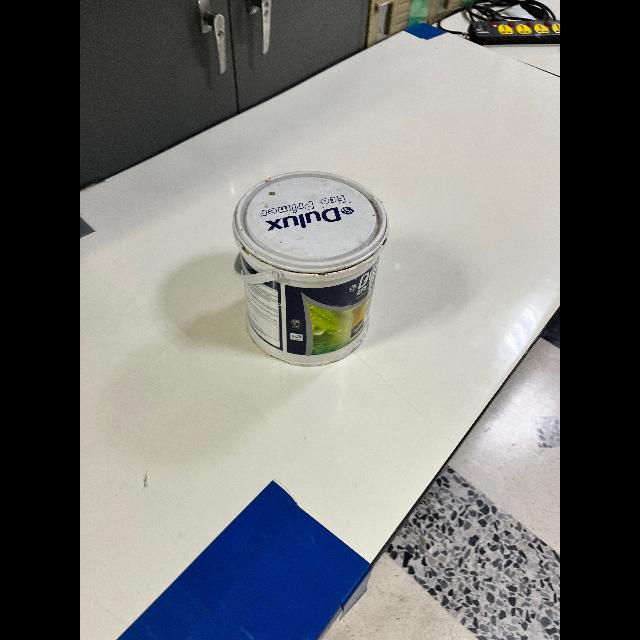paint_bucket: (226, 164, 388, 368)
